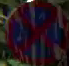No waiting: (5, 1, 68, 65)
